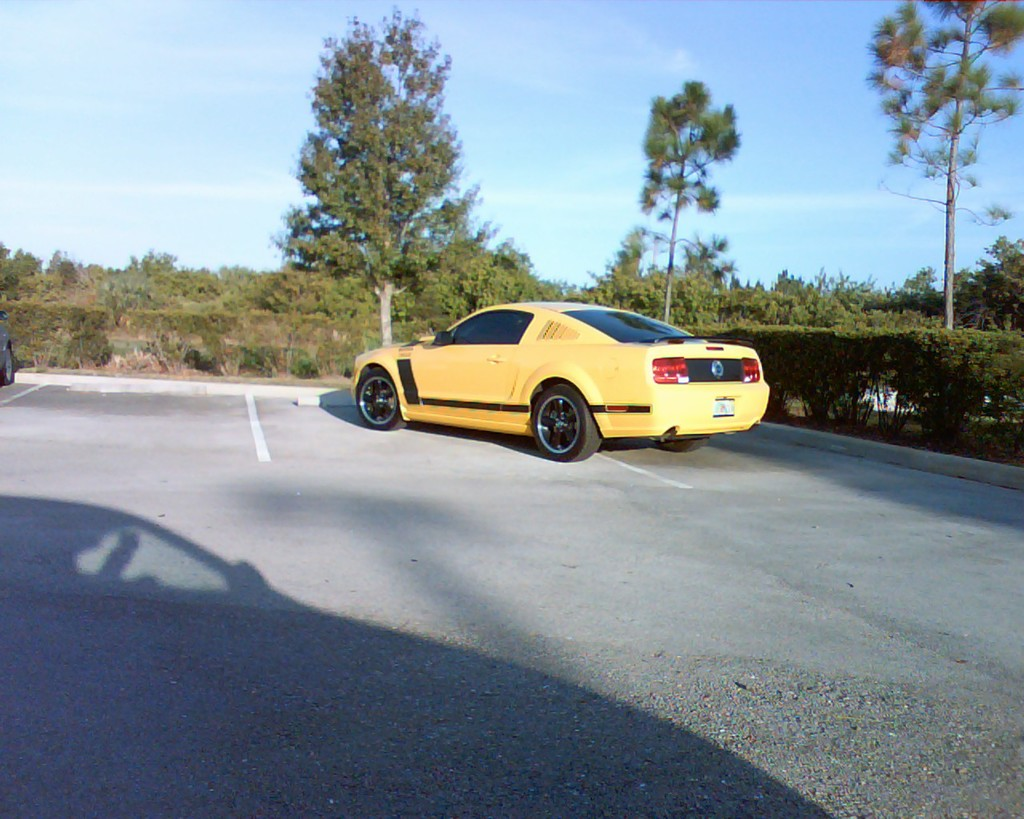Car: (350, 299, 775, 464), (0, 314, 14, 391)
